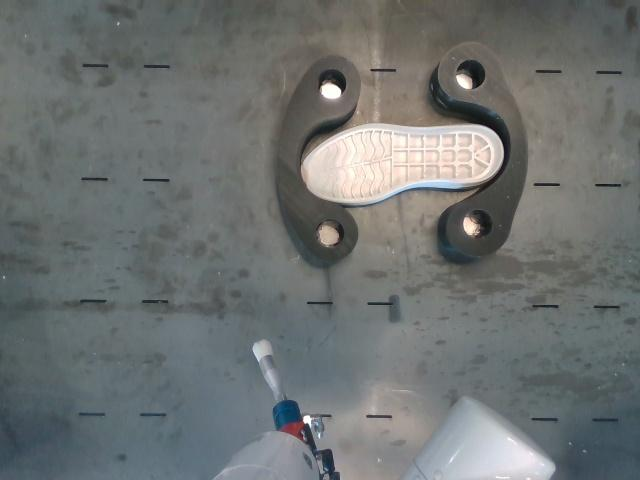shoes: (302, 123, 503, 203)
